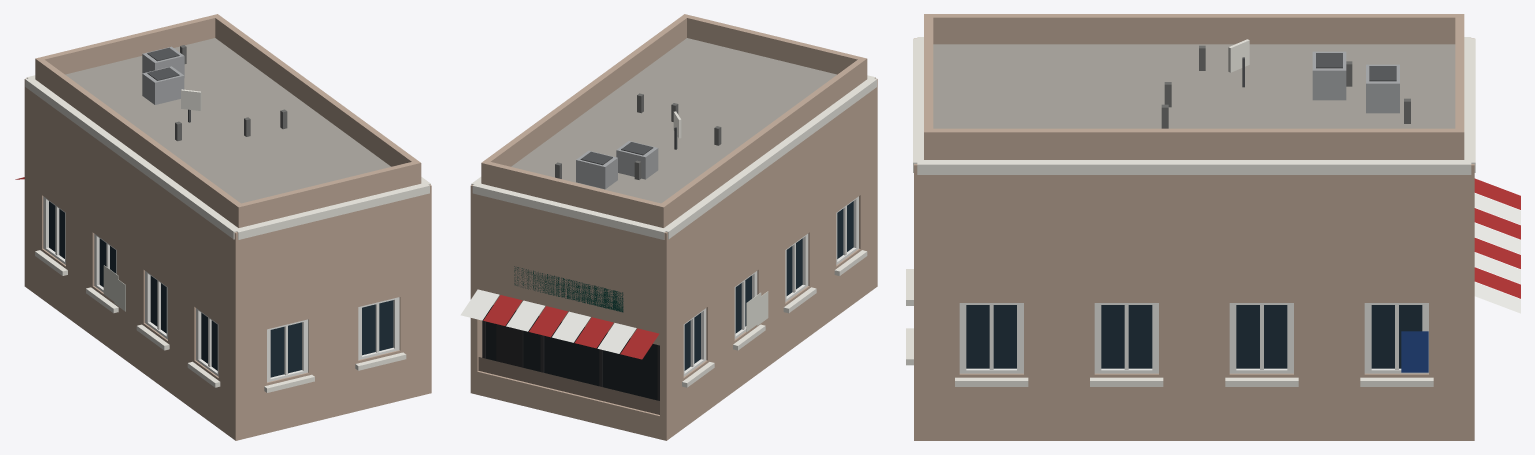
3 views of the same model, side by side, from view 1: azimuth 30°, elevation 25°; view 2: azimuth 150°, elevation 25°; view 3: azimuth 270°, elevation 25° (orthographic). The views are drawn at different scales.
Visible parts, largest first — view 1: b8266_opaque, b8266_glass; view 2: b8266_opaque, b8266_glass; view 3: b8266_opaque, b8266_glass.
Boxes of the visible parts, x1,y1,x2,y2 form: b8266_opaque: [15, 14, 431, 440]; b8266_glass: [49, 201, 393, 377]; b8266_opaque: [460, 14, 877, 440]; b8266_glass: [486, 201, 853, 400]; b8266_opaque: [906, 14, 1520, 440]; b8266_glass: [966, 305, 1422, 368].
Bounding box in the file's own units: 2801 × 3135 × 5447.
